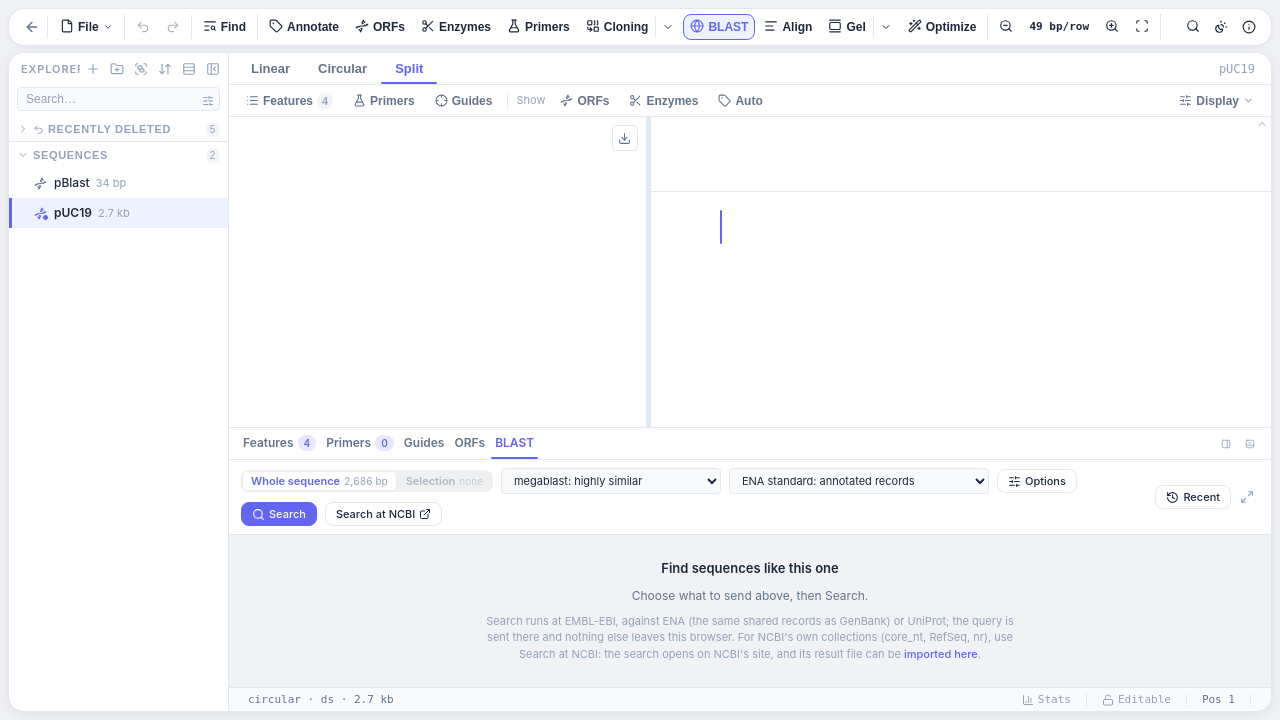
Test: BLAST as a tab of the bottom panel › closes BLAST when another tab is picked, and with the panel
Expected: the element named "Search settings" is shown, x1=241 y1=468 x2=1143 y2=526
Click the tab "Features 4": point(280, 444) x1=239 y1=428 x2=320 y2=459
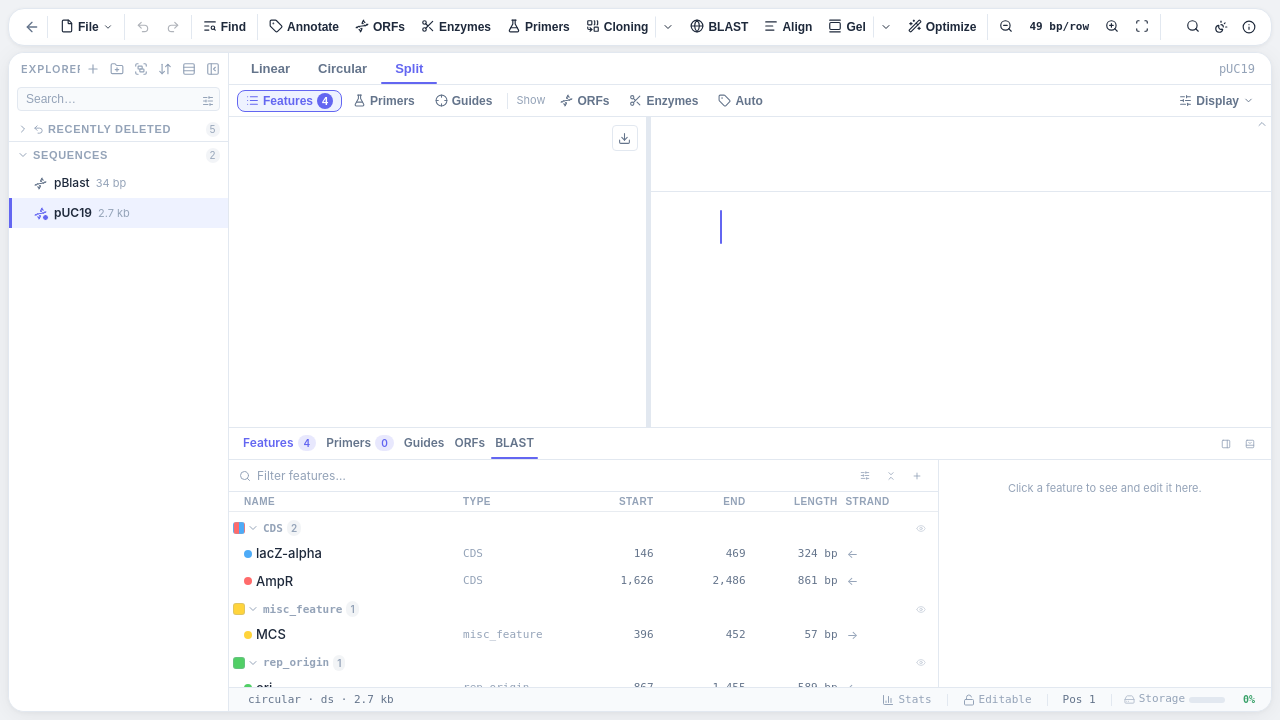
Now the tab "Features 4" is selected, box x1=239 y1=428 x2=320 y2=459
Click the tab "BLAST": point(515, 444) x1=491 y1=428 x2=538 y2=459
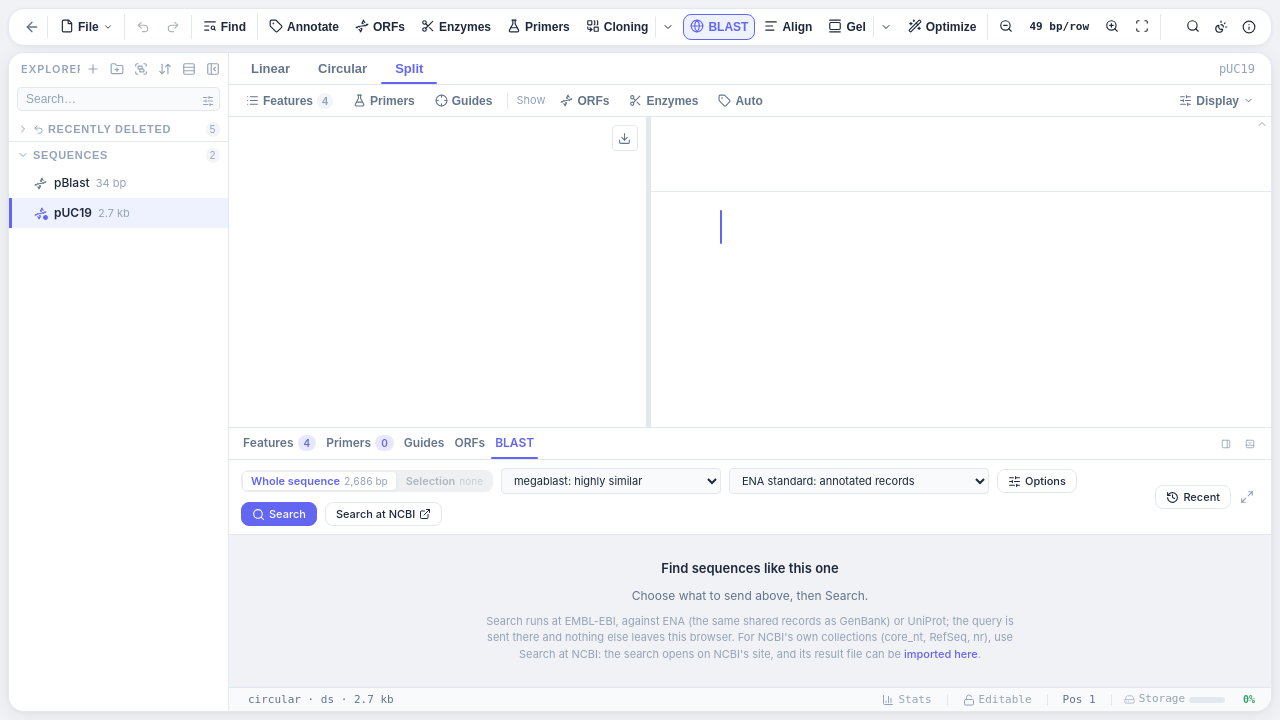
Click the button titled "Close panel": point(1250, 444) x1=1239 y1=432 x2=1261 y2=454
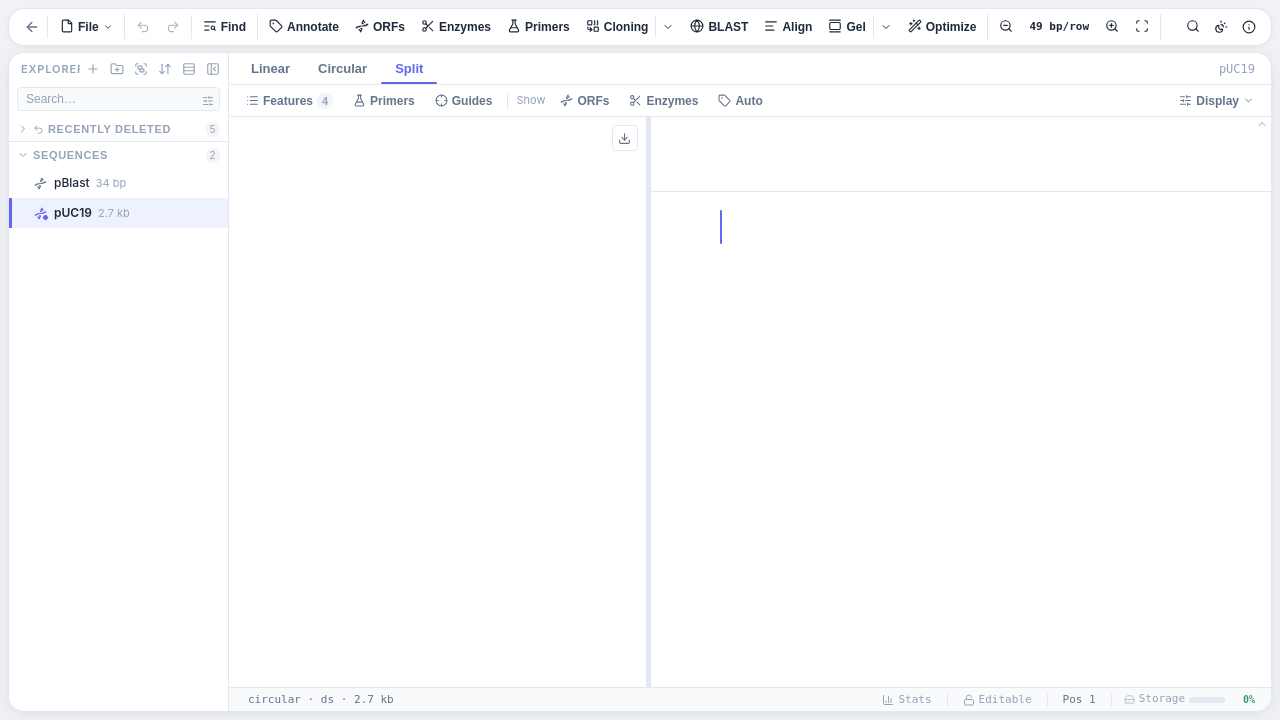
Now the element with class "feature-sidebar" is gone
